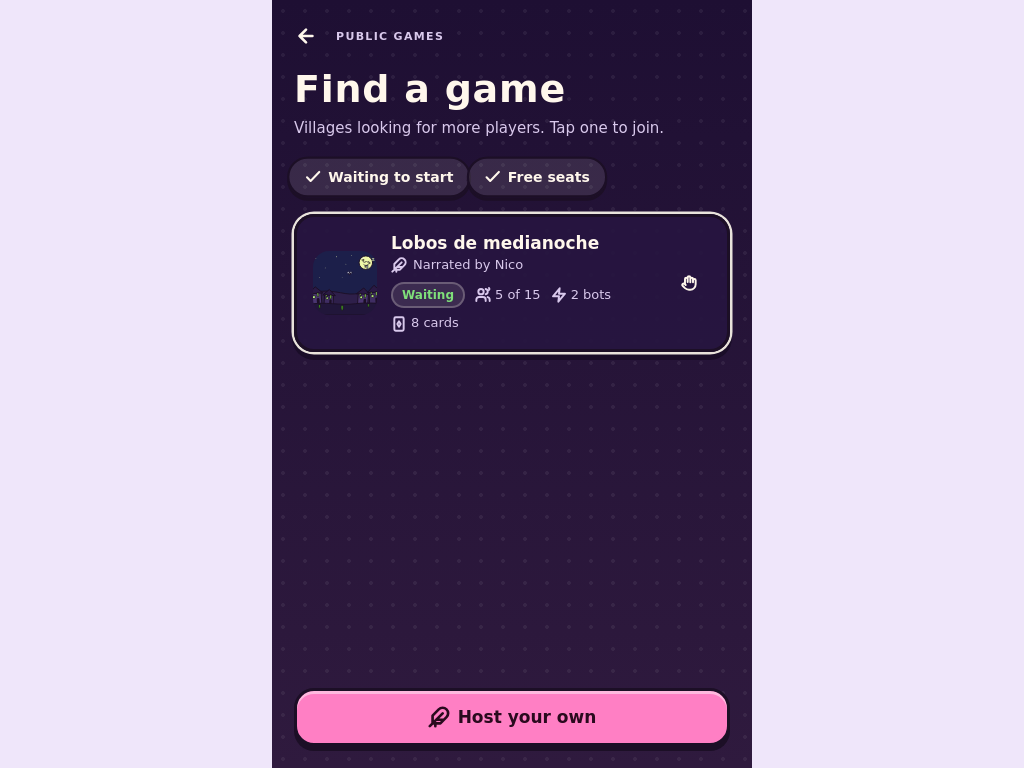
Test: PublicGamesView › asks before reporting a room and marks it reported
Click the button with class "games-report" at [689, 283], box top-left (667, 261), bottom-right (711, 305)
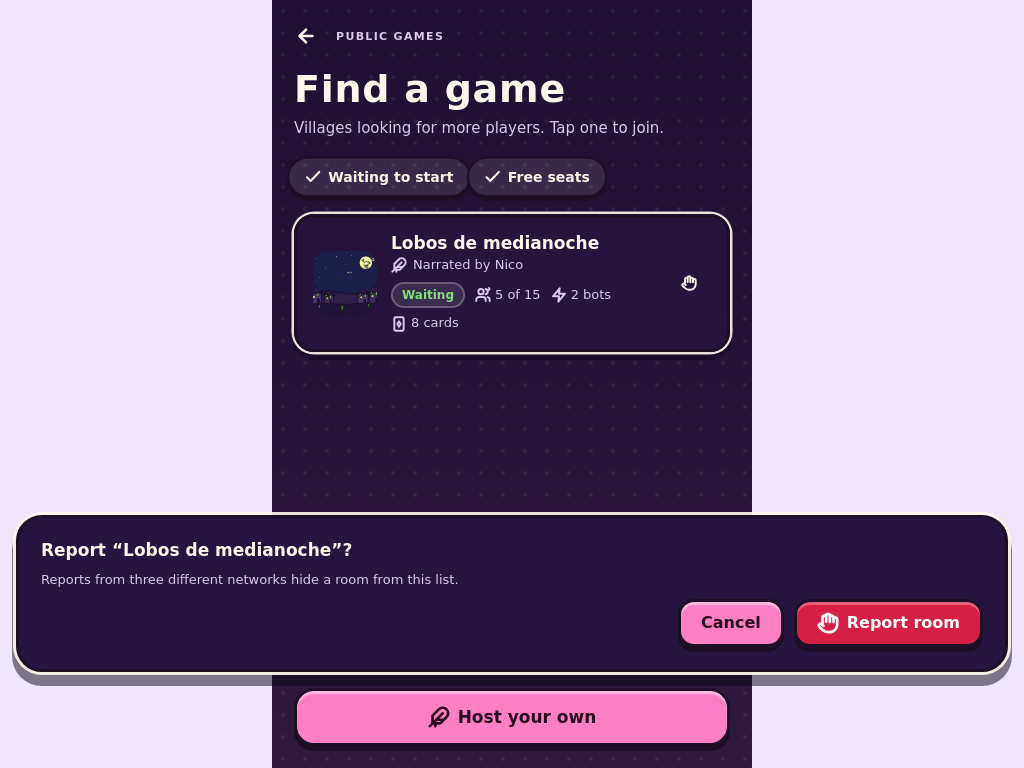
Check: the dialog shows "Report “Lobos de medianoche”?", box top-left (41, 540), bottom-right (352, 560)
Click the button with class "btn-danger" at [888, 623], box top-left (794, 599), bottom-right (983, 647)
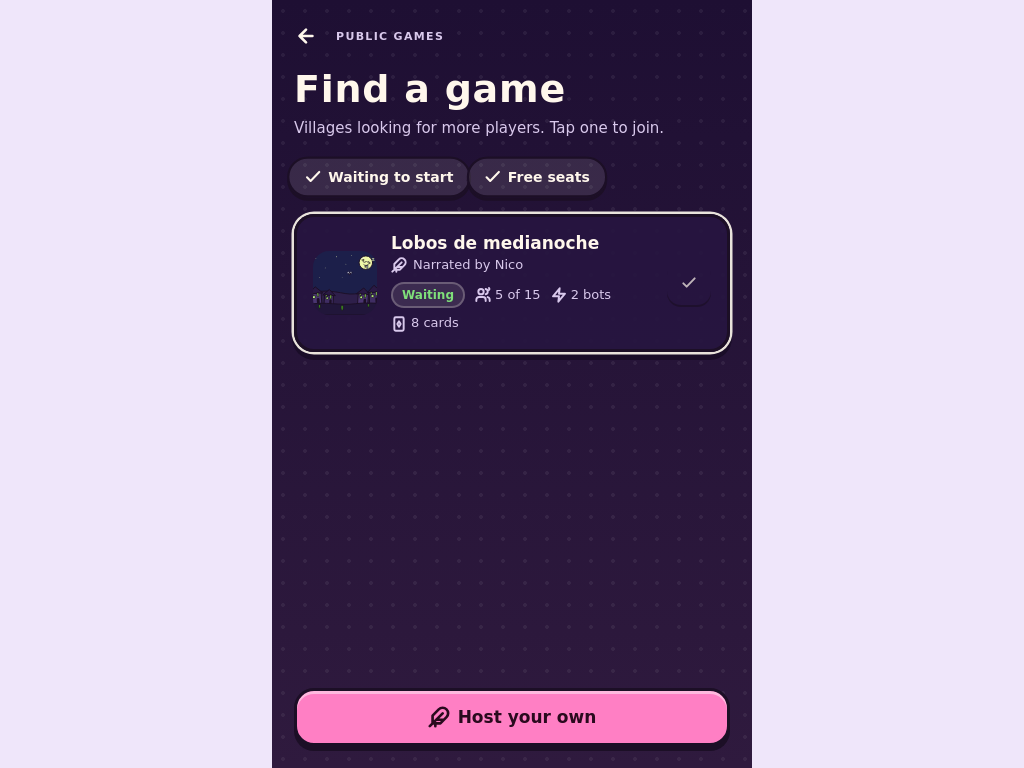
Check: the button with class "games-report" is disabled, box top-left (667, 261), bottom-right (711, 305)
